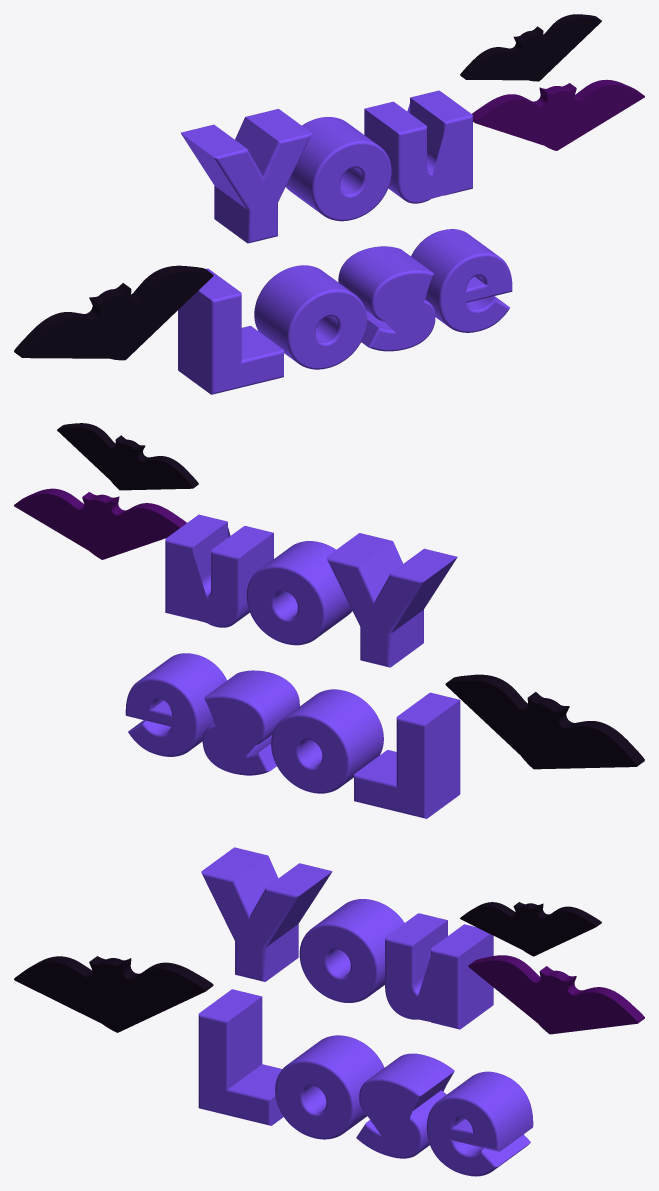
File: You Lose.fbx
The picture shows the model from 3 angles, top to bottom: view 1: azimuth 30°, elevation 25°; view 2: azimuth 150°, elevation 25°; view 3: azimuth 330°, elevation 25°; orthographic projection.
Visible parts, largest first — view 1: Extrude_1_4, Extrude_2_4, Extrude_3_1; view 2: Extrude_1_4, Extrude_2_4, Extrude_3_1; view 3: Extrude_1_4, Extrude_2_4, Extrude_3_1.
Boxes of the visible parts, <box> form: Extrude_1_4: <box>178,229,512,394</box>; Extrude_2_4: <box>180,90,472,243</box>; Extrude_3_1: <box>14,14,644,360</box>; Extrude_1_4: <box>125,653,460,818</box>; Extrude_2_4: <box>165,514,457,667</box>; Extrude_3_1: <box>14,423,644,769</box>; Extrude_1_4: <box>198,989,533,1176</box>; Extrude_2_4: <box>201,847,493,1029</box>; Extrude_3_1: <box>14,902,644,1034</box>.
Size of the model in its own units: 879 by 384 by 86.
